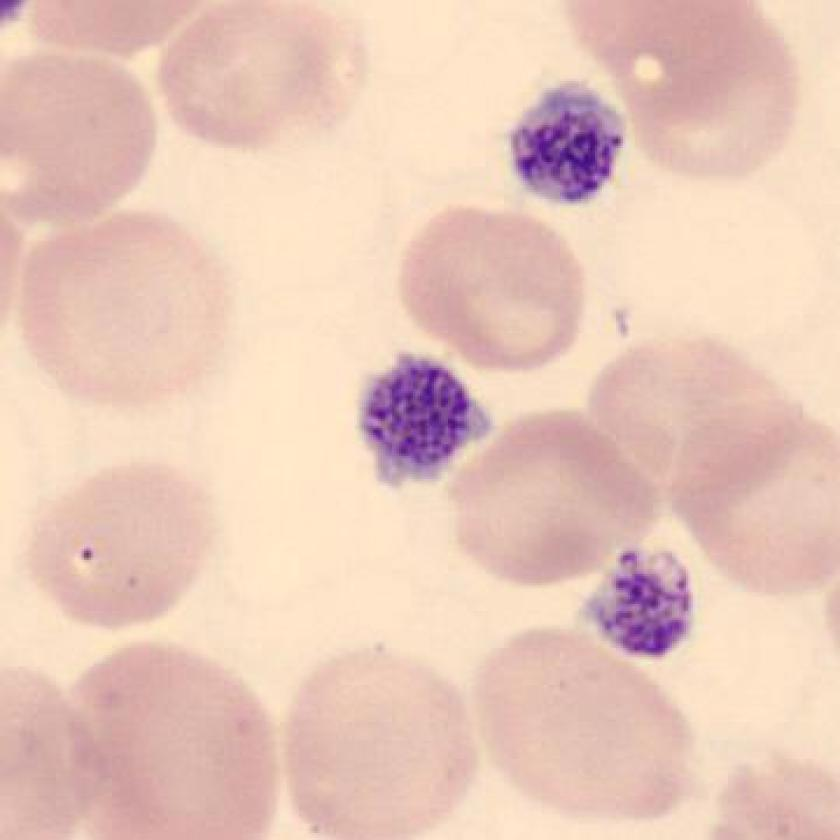platelets: (351, 339, 503, 505), (501, 73, 634, 216), (582, 547, 699, 665)
